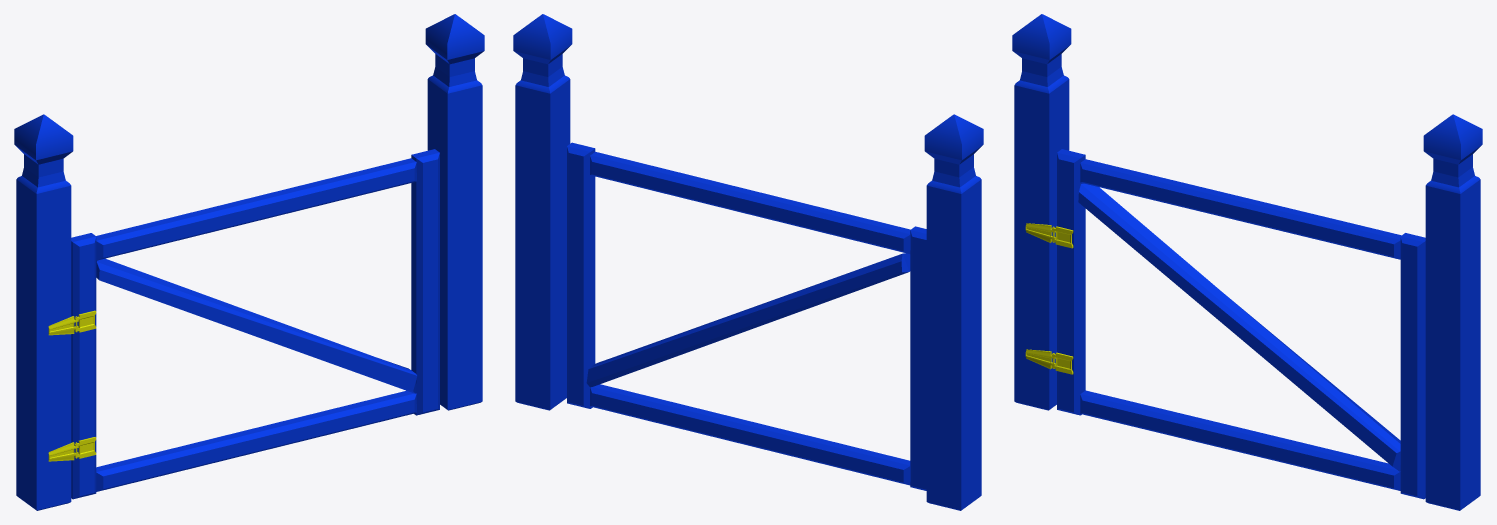
File: Gateseperate.fbx
3 views of the same model, side by side, from view 1: azimuth 30°, elevation 25°; view 2: azimuth 150°, elevation 25°; view 3: azimuth 330°, elevation 25° (orthographic).
Parts seen in each view (by area): view 1: Gate, Post1, Post2; view 2: Gate, Post1, Post2; view 3: Gate, Post2, Post1.
Part boxes in pixels (x1=…): Gate: x1=71, y1=149, x2=439, y2=499; Post1: x1=14, y1=114, x2=78, y2=510; Post2: x1=425, y1=14, x2=484, y2=410; Gate: x1=567, y1=142, x2=926, y2=490; Post1: x1=924, y1=114, x2=983, y2=510; Post2: x1=513, y1=14, x2=572, y2=410; Gate: x1=1051, y1=149, x2=1425, y2=499; Post2: x1=1423, y1=114, x2=1482, y2=510; Post1: x1=1012, y1=14, x2=1071, y2=410.
Size of the model in its own units: 6.77 by 5.56 by 0.5665.
